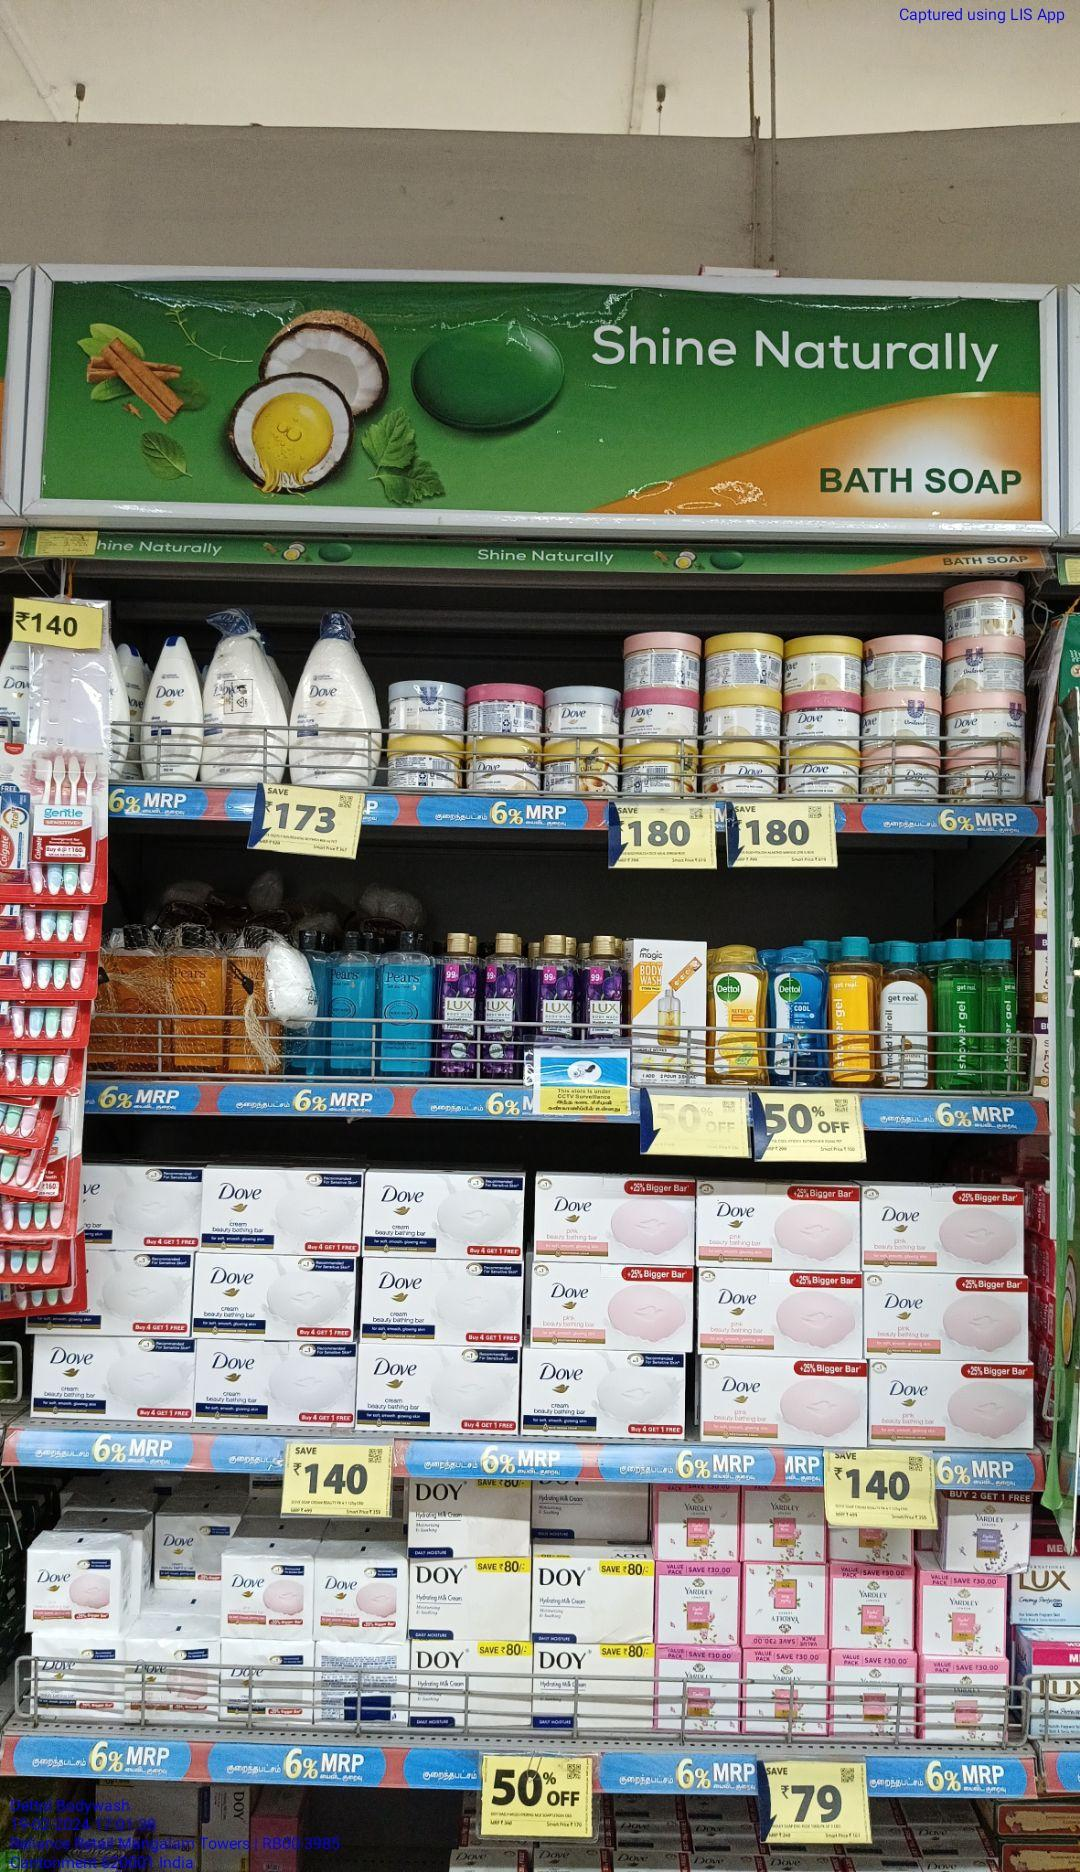Dettol_Bodywash_Cool: (774, 940, 824, 1086)
Dettol_Bodywash_Refresh: (710, 937, 769, 1085)
Dove_Deep_Moisture_Body_Wash_250ML: (144, 634, 203, 784)
Lux_Black_Orchid_Scent_and_Juniper_Oil_Body_Wash_245ML: (437, 928, 478, 1081), (530, 924, 576, 1049), (482, 930, 519, 1084), (580, 927, 624, 1053)
Pears_Pure_Glycerin_and_Mint_Extracts_Body_Wash_250ML: (379, 928, 429, 1077), (328, 928, 375, 1080)
